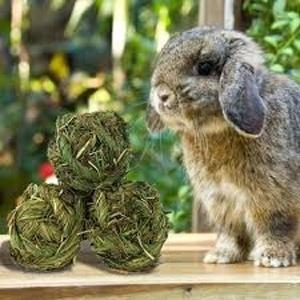rabbit: (147, 27, 300, 268)
